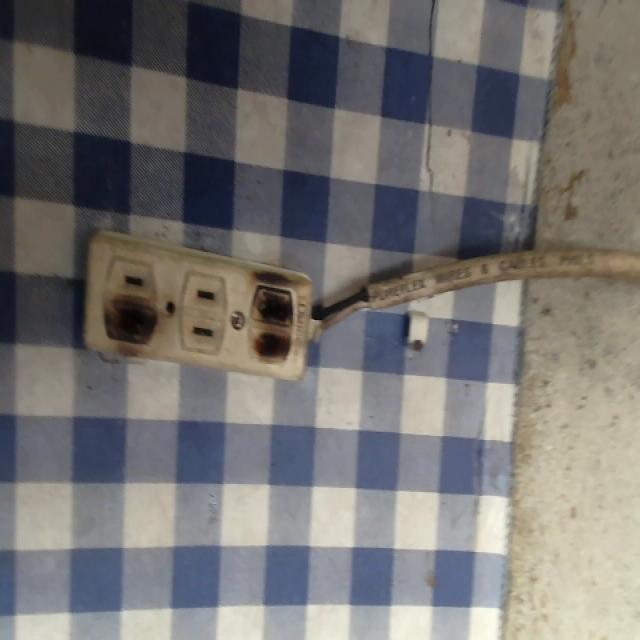-: (247, 263, 306, 369), (97, 291, 160, 348)
